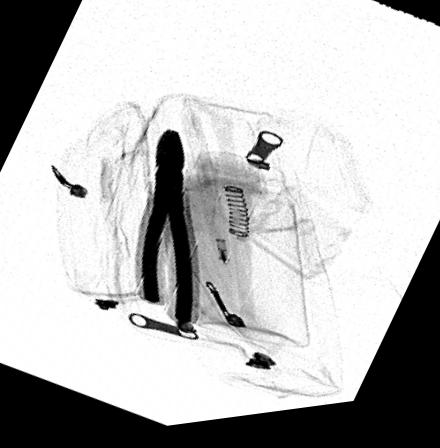Pliers: (137, 132, 195, 332)
